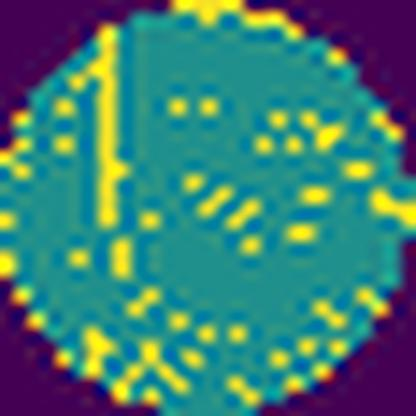Scratch: (65, 21, 138, 232)
